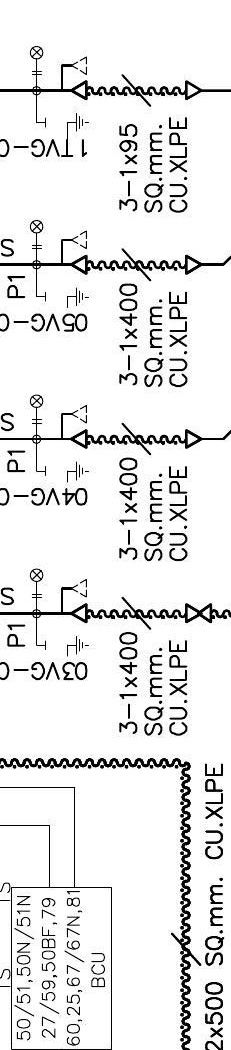22_gs: (43, 113, 89, 141), (43, 460, 89, 484), (43, 635, 89, 658), (43, 287, 89, 310)
22_ll: (29, 568, 44, 599), (29, 394, 44, 425), (29, 219, 44, 250), (29, 45, 44, 76)
terminator_single: (184, 79, 202, 101), (184, 254, 202, 276), (184, 428, 202, 450)
terminator_splicing_kits: (184, 603, 212, 624)
terminator_w_future: (59, 577, 89, 624), (59, 230, 89, 277), (59, 55, 89, 102), (59, 403, 88, 450)
